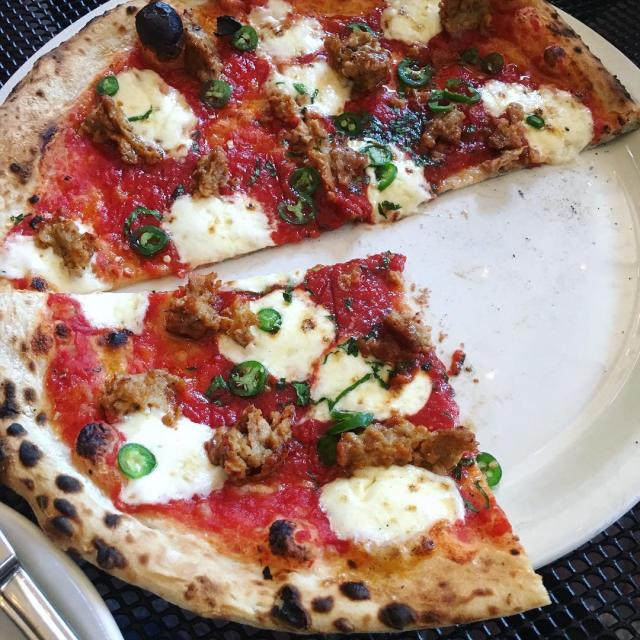black_olives: (132, 2, 189, 50)
